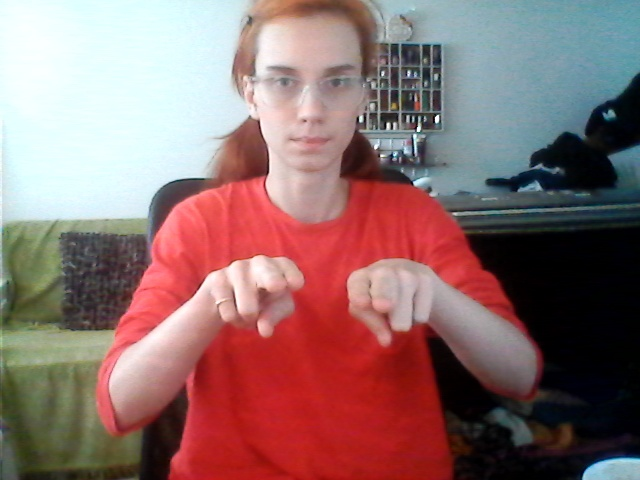brat: (208, 242, 439, 357)
